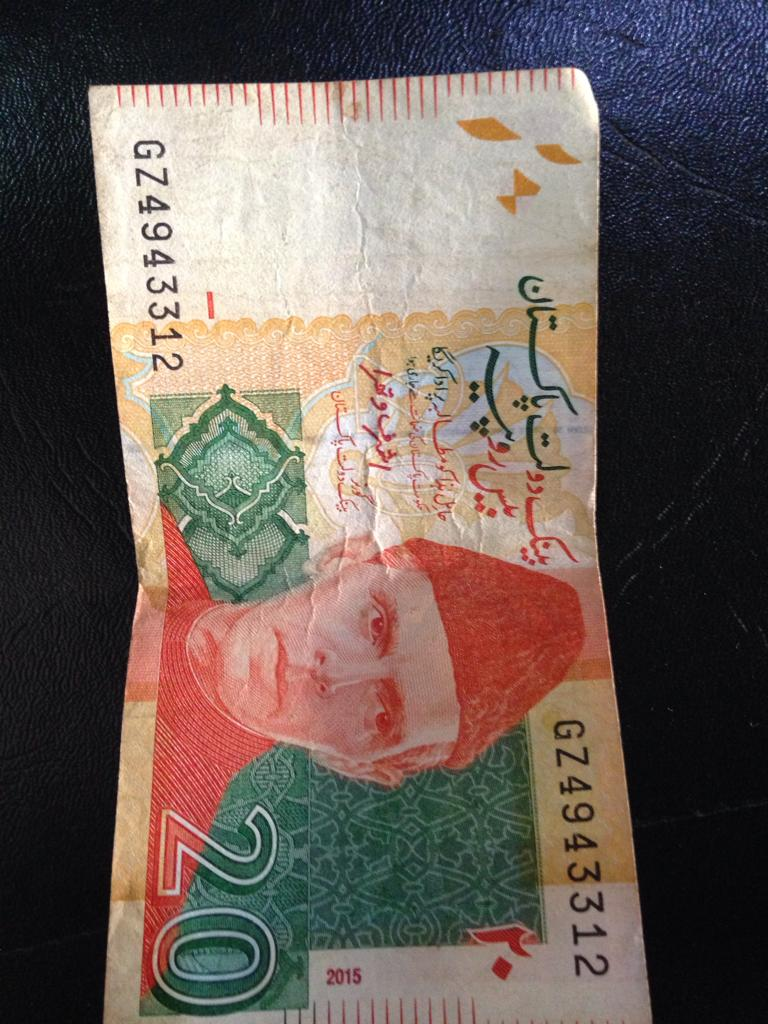20 rupee: (64, 65, 667, 1020)
